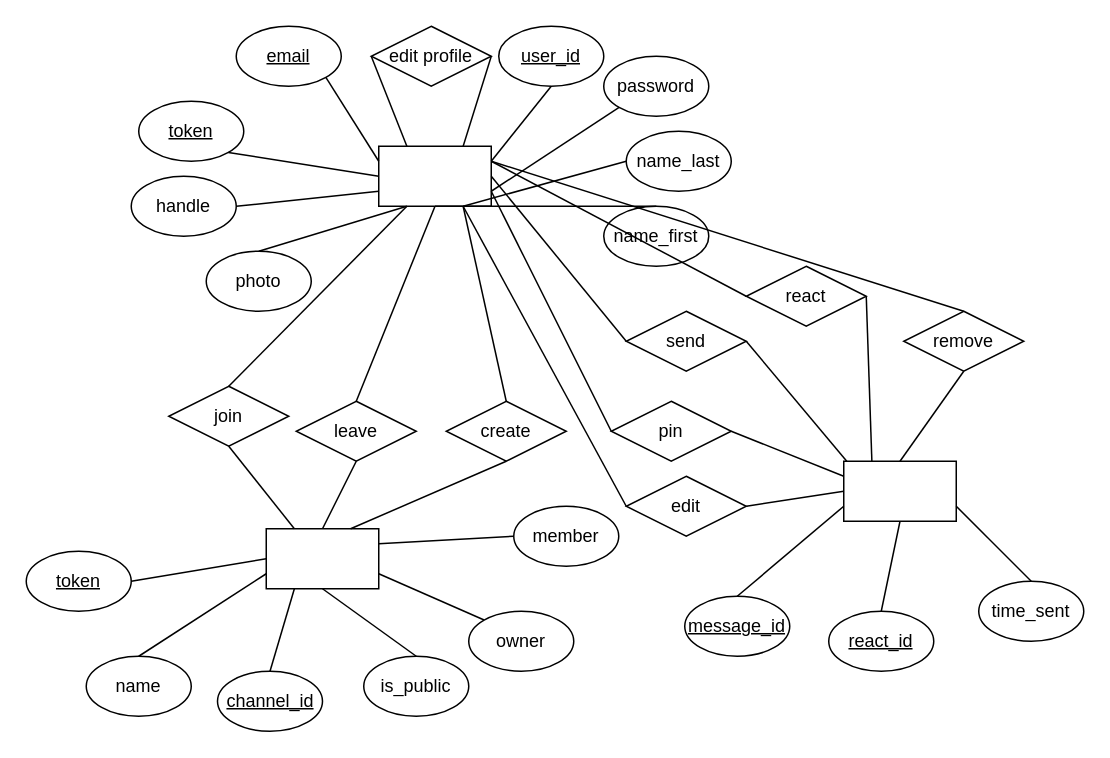
This 1110x758 diagram has some shape labels left out. Here are the shapes that lost their labels. From the top down, the centre of each, then its label:
pixel 434 175: user
pixel 899 490: message
pixel 322 558: channel
